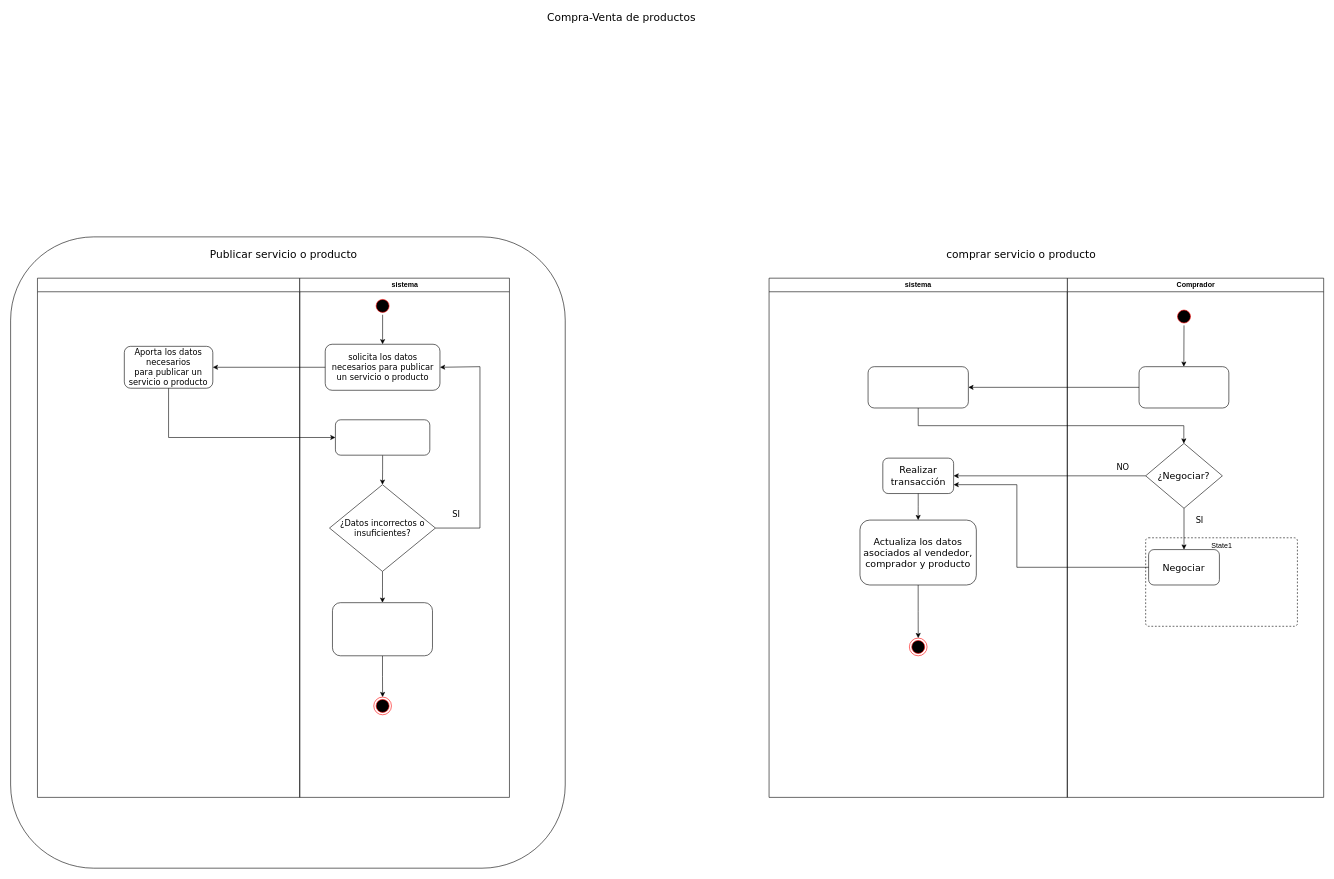
Image size: 1334x879. Some labels were removed from this diagram. Here are the shapes that lost their labels. From the top down, the box of each, then its label:
(867, 366, 968, 408): Procesa los datos asociados al producto o servicio
(1138, 366, 1229, 408): Solicita comprar un producto o servicio
(335, 419, 430, 455): Comprueba los datos introducidos
(37, 278, 300, 797): Vendedor
(332, 602, 432, 656): Actualiza el catálogo para que muestre el nuevo producto o servicio
